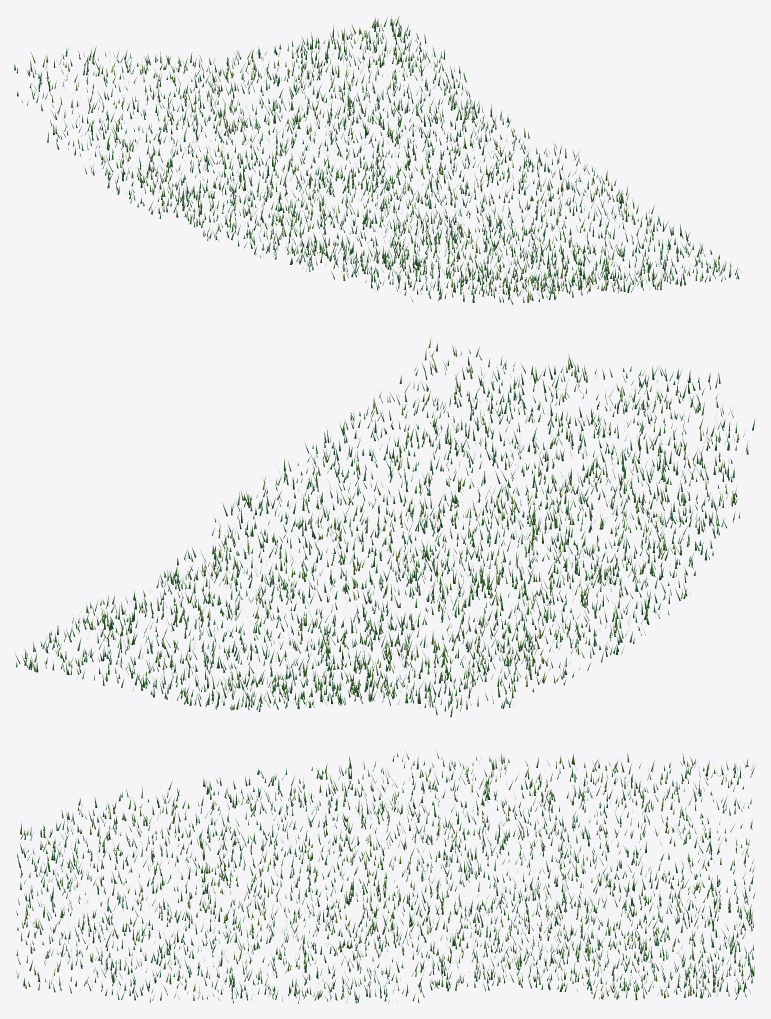
3 views of the same model, one above another, from view 1: azimuth 30°, elevation 25°; view 2: azimuth 150°, elevation 25°; view 3: azimuth 270°, elevation 25° (orthographic). The views are drawn at different scales.
Visible parts, largest first — view 1: gc_1; view 2: gc_1; view 3: gc_1.
Boxes of the visible parts, x1,y1,x2,y2 form: gc_1: [14, 15, 741, 304]; gc_1: [14, 337, 755, 717]; gc_1: [16, 751, 756, 1003].
Bounding box in the file's own units: 12.17 × 1.7 × 18.15.
1 material, 1 textured.
